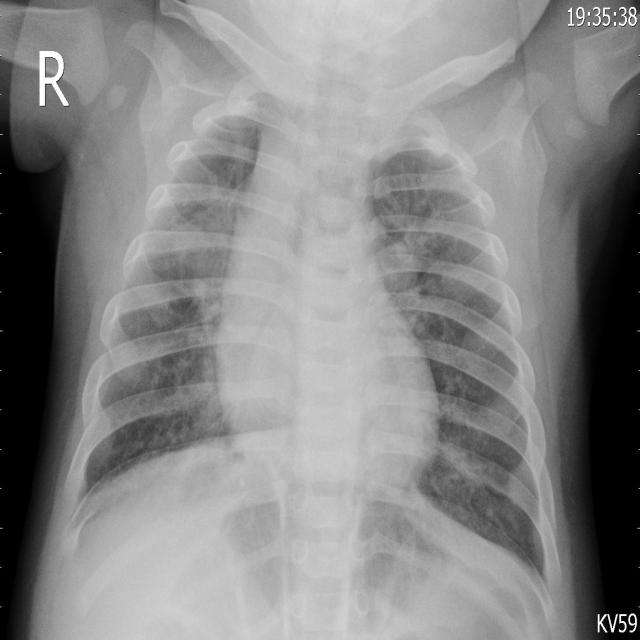low-pneumonia: (381, 182, 441, 324), (191, 181, 244, 318)
